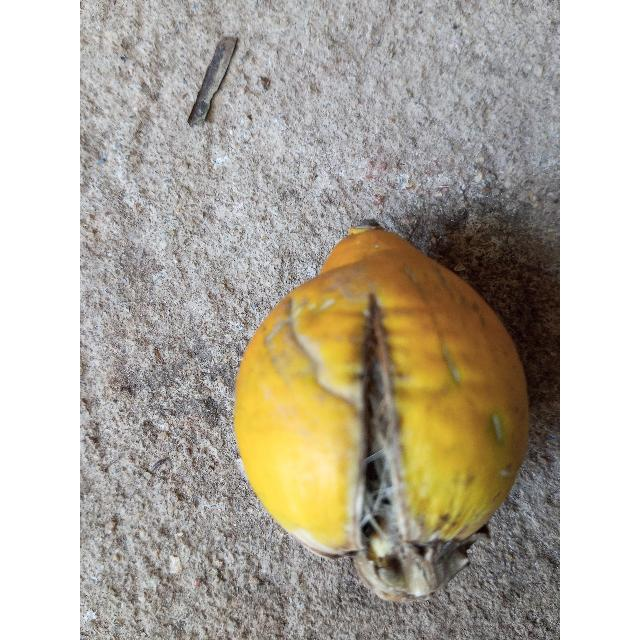damaged: (234, 220, 528, 601)
